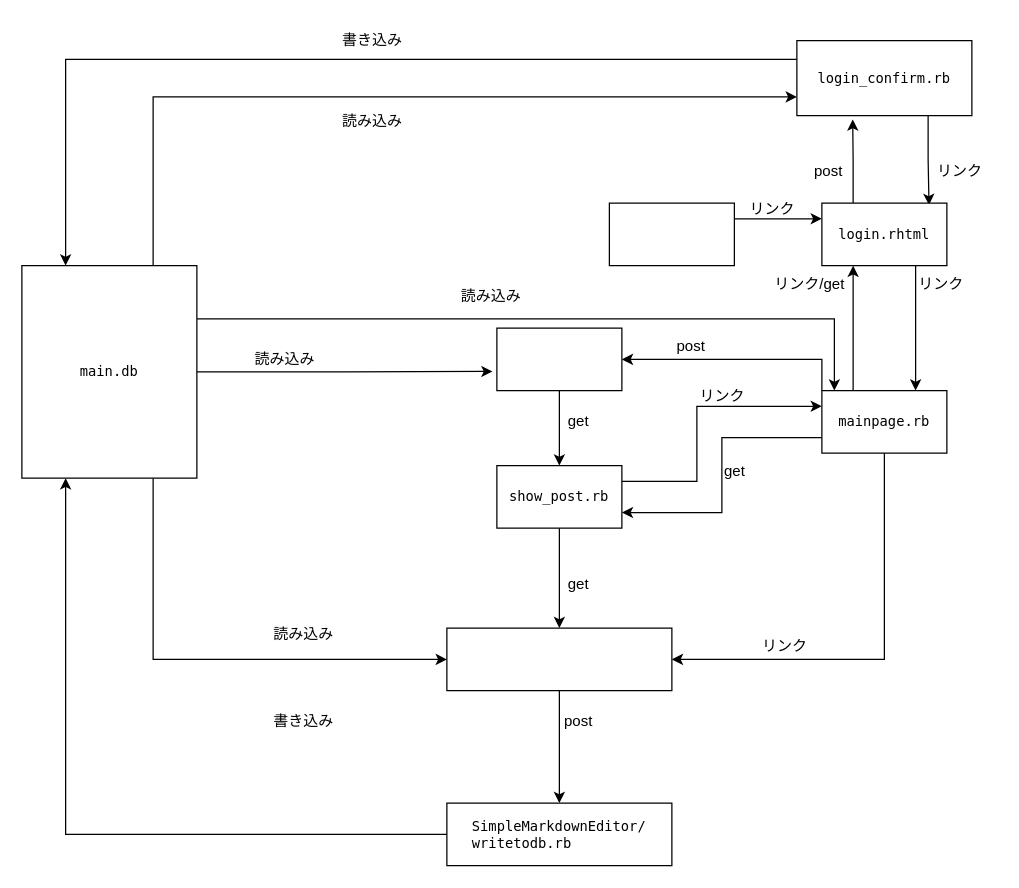
This 1019x888 diagram has some shape labels left out. The centre of each missing label's shape, as x and y in pixels:
"logout.rb" goes at point (671, 234).
"search.rb" goes at point (559, 359).
"SimpleMarkdownEditor/ edit_post.rb" goes at point (559, 659).
